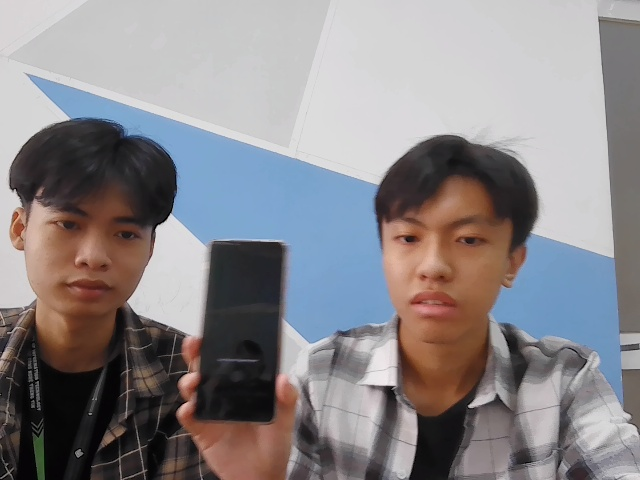human: (370, 132, 538, 345), (8, 129, 174, 321)
phone: (195, 234, 286, 427)
